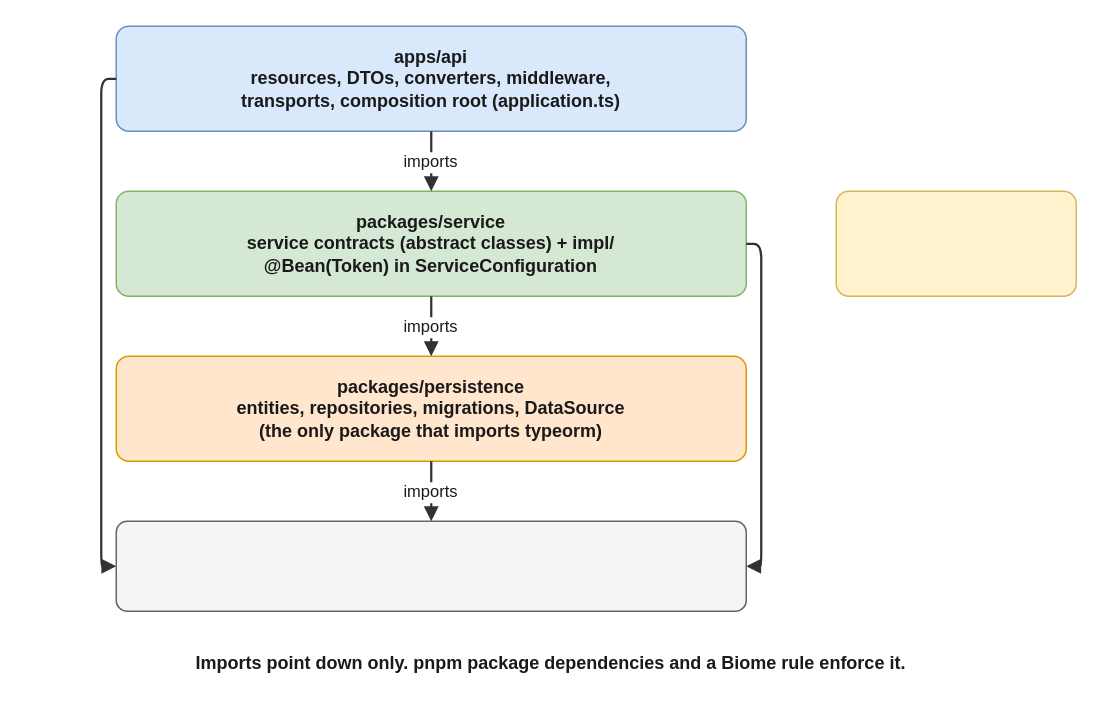
Image size: 1103x713. Some labels were removed from this diagram. Here are the shapes that lost their labels. From the top down, the box of each, then its label:
(835, 190, 1076, 296): packages/cli create + generate standalone
(115, 520, 746, 611): packages/common config, DI, security, errors, cache, queues, observability
